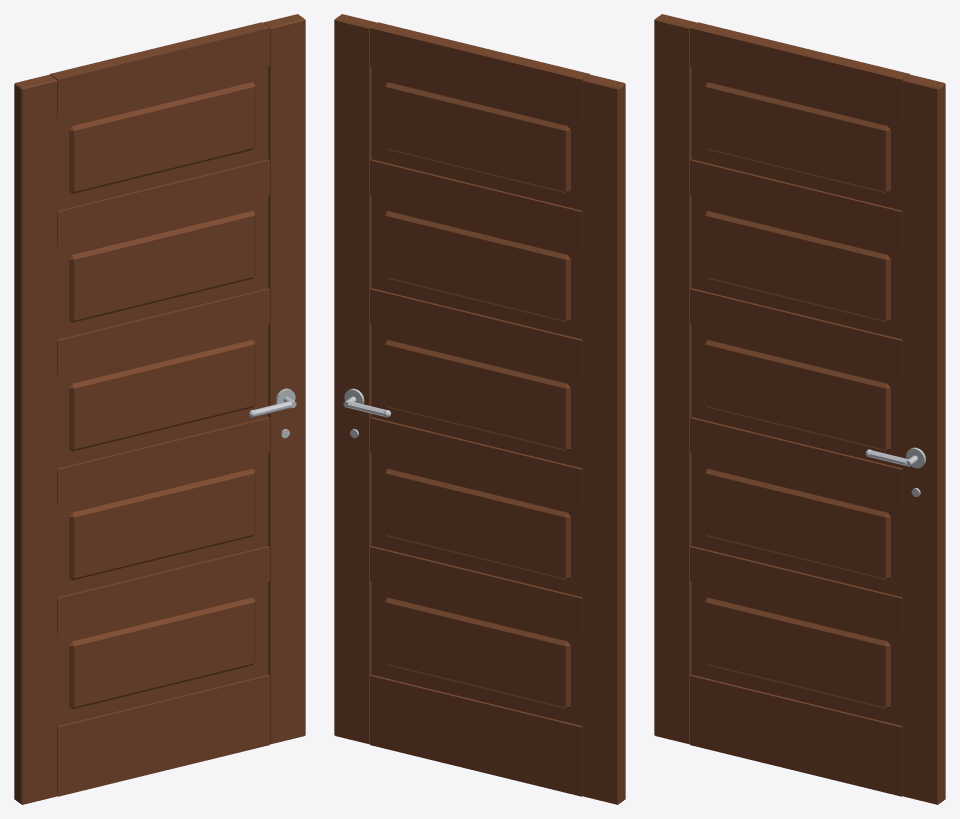
Rendered from porta_classica_5_madeira.glb.
The picture shows the model from 3 angles, left to right: view 1: azimuth 30°, elevation 25°; view 2: azimuth 150°, elevation 25°; view 3: azimuth 330°, elevation 25°; orthographic projection.
Parts seen in each view (by area): view 1: porta_classica_5_madeira; view 2: porta_classica_5_madeira; view 3: porta_classica_5_madeira.
Boxes of the visible parts, x1,y1,x2,y2 form: porta_classica_5_madeira: (14,14,305,804); porta_classica_5_madeira: (334,14,625,804); porta_classica_5_madeira: (654,14,945,804).
Bounding box in the file's own units: 0.86 × 2.07 × 0.143.
